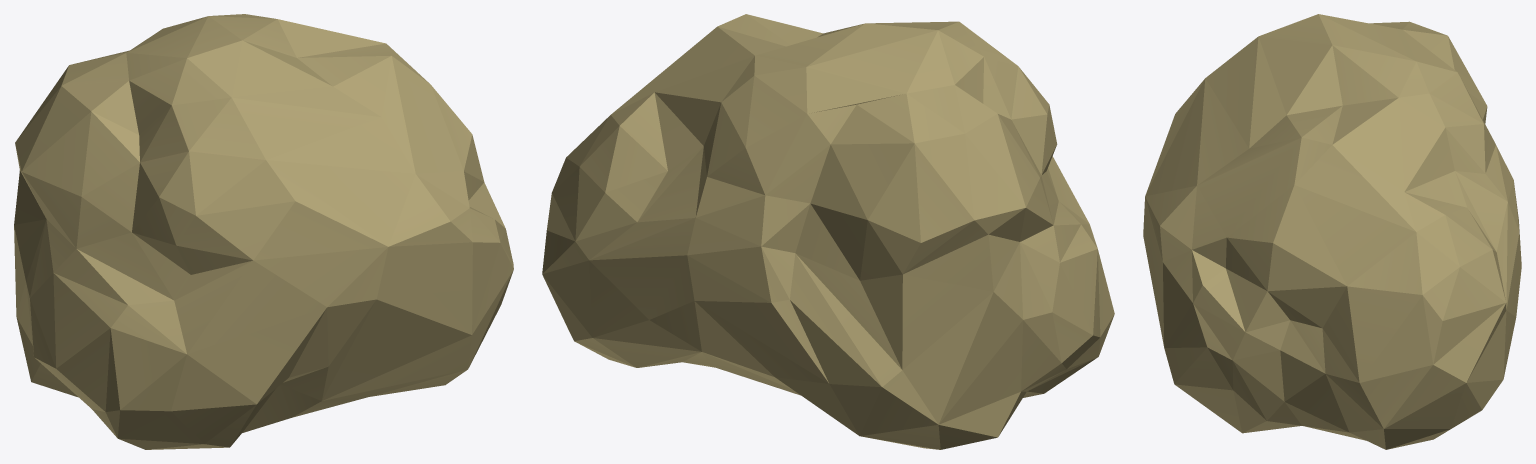
The model's file is SM_rock_72.fbx.
3 views of the same model, side by side, from view 1: azimuth 30°, elevation 25°; view 2: azimuth 150°, elevation 25°; view 3: azimuth 270°, elevation 25° (orthographic). The views are drawn at different scales.
Visible parts, largest first — view 1: rock_72; view 2: rock_72; view 3: rock_72.
Boxes of the visible parts, left/top/right/bottom form: rock_72: left=14, top=14, right=513, bottom=449; rock_72: left=542, top=14, right=1114, bottom=449; rock_72: left=1143, top=14, right=1521, bottom=449.
Size of the model in its own units: 236 by 175 by 182.
